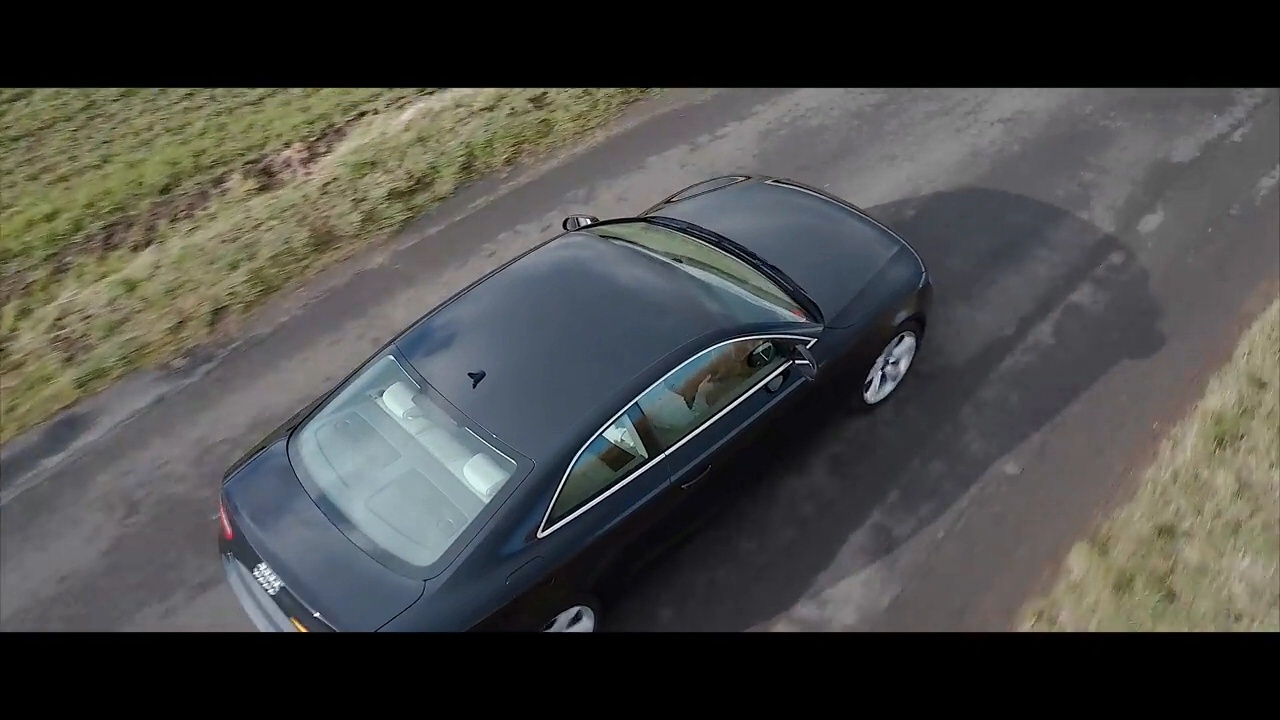araba: (212, 158, 934, 631)
